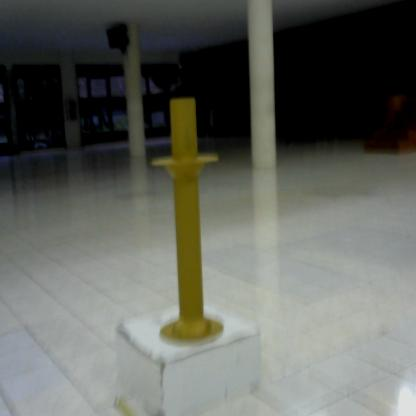pole: (147, 91, 236, 352)
